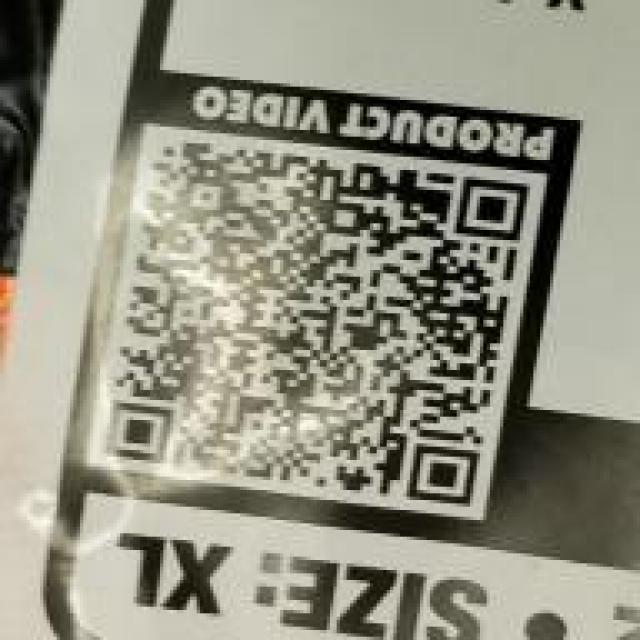QR_CODE: (87, 128, 540, 524)
